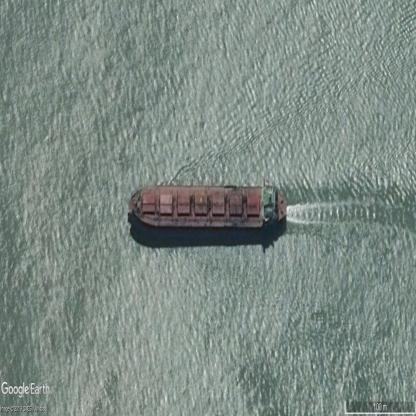ship: (130, 185, 289, 235)
